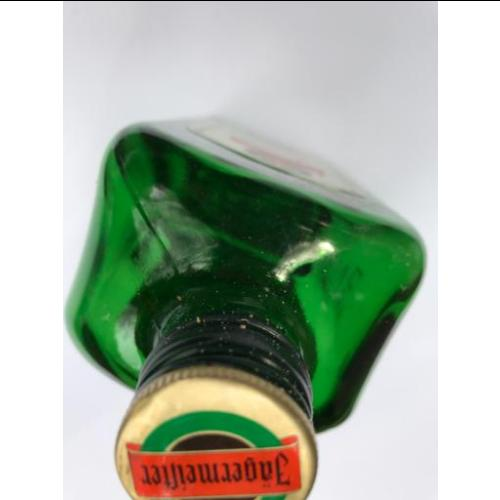glass: (64, 126, 426, 498)
